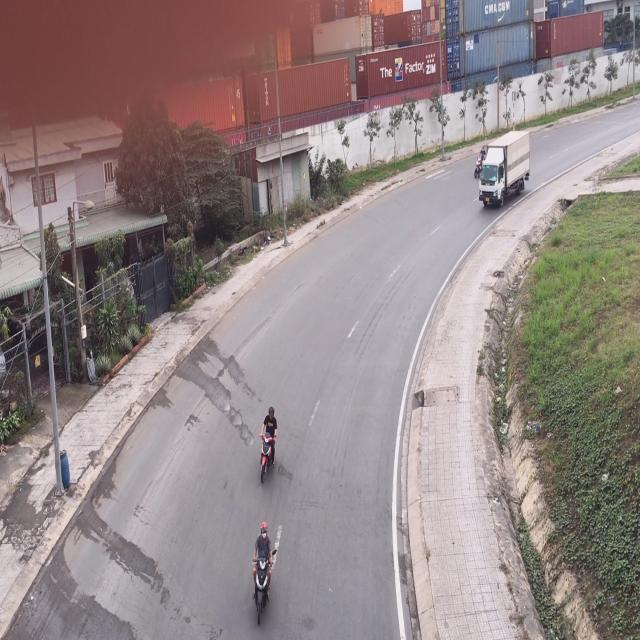motorbike: (252, 522, 277, 625), (260, 407, 280, 487)
truck: (478, 143, 529, 212)
